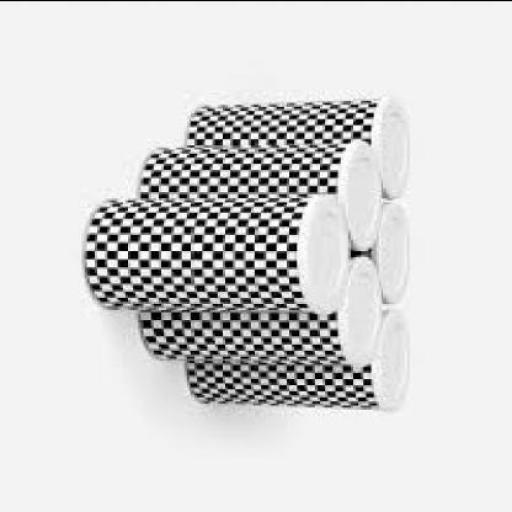metal: (85, 202, 348, 314), (138, 256, 389, 368), (138, 146, 384, 252), (190, 100, 412, 200), (189, 312, 410, 412), (353, 204, 415, 304)
